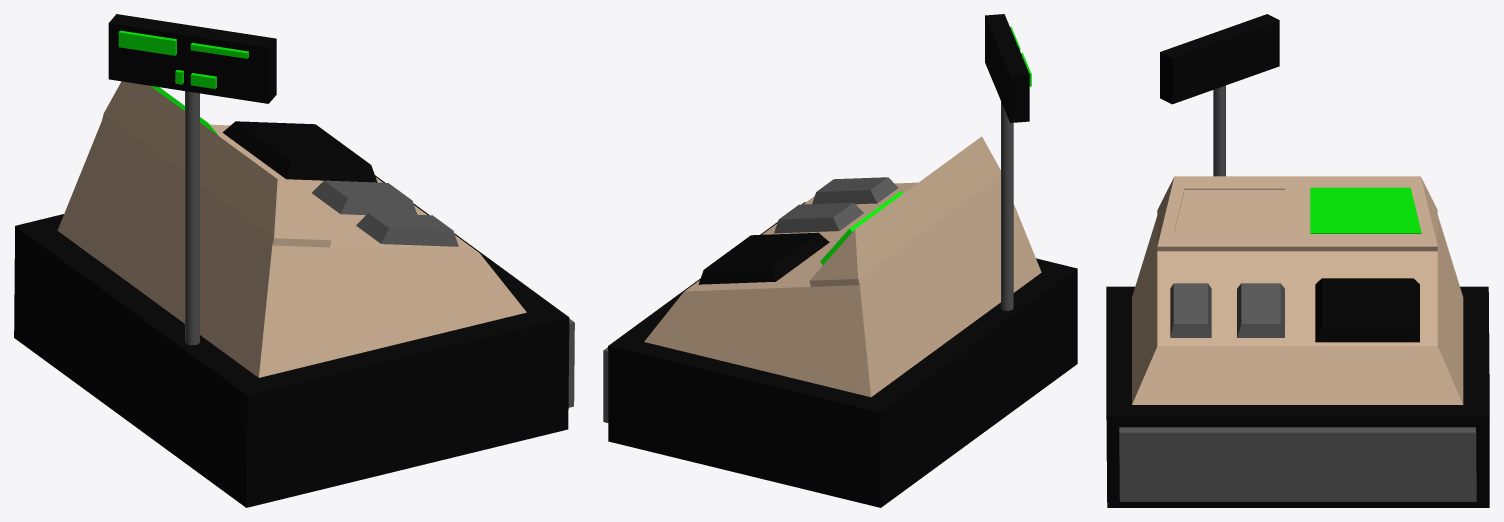
The model's file is general_cash_register.FBX.
3 renders of one model, left to right at view 1: azimuth 30°, elevation 25°; view 2: azimuth 150°, elevation 25°; view 3: azimuth 270°, elevation 25°, orthographic. The views are drawn at different scales.
Parts seen in each view (by area): view 1: CashRegister; view 2: CashRegister; view 3: CashRegister.
Part boxes in pixels (<box>): CashRegister: <box>14,14,574,507</box>; CashRegister: <box>603,14,1077,507</box>; CashRegister: <box>1106,14,1489,507</box>.
Bounding box in the file's own units: 14.03 × 15.08 × 15.03.
